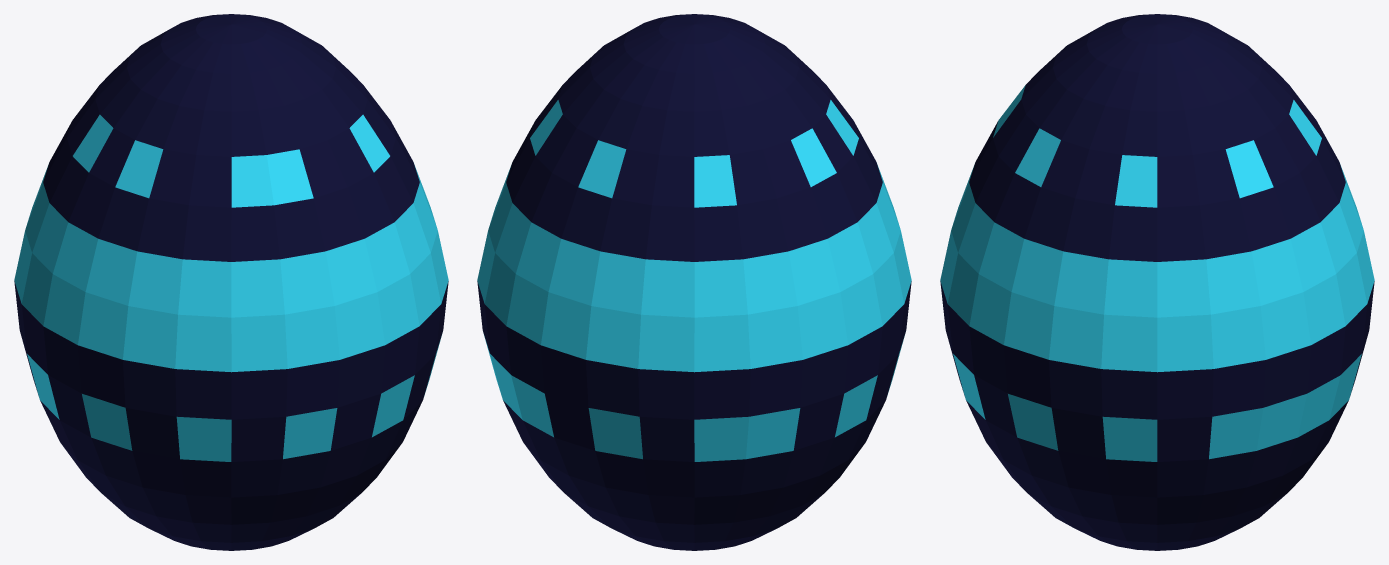
File: Egg_nebula.obj
3 renders of one model, left to right at view 1: azimuth 30°, elevation 25°; view 2: azimuth 150°, elevation 25°; view 3: azimuth 270°, elevation 25°, orthographic.
Visible parts, largest first — view 1: Egg_nebula; view 2: Egg_nebula; view 3: Egg_nebula.
Part boxes in pixels (x1=…): Egg_nebula: x1=14, y1=14, x2=448, y2=550; Egg_nebula: x1=477, y1=14, x2=911, y2=550; Egg_nebula: x1=940, y1=14, x2=1374, y2=550.
Bounding box in the file's own units: 0.28 × 0.364 × 0.28.
